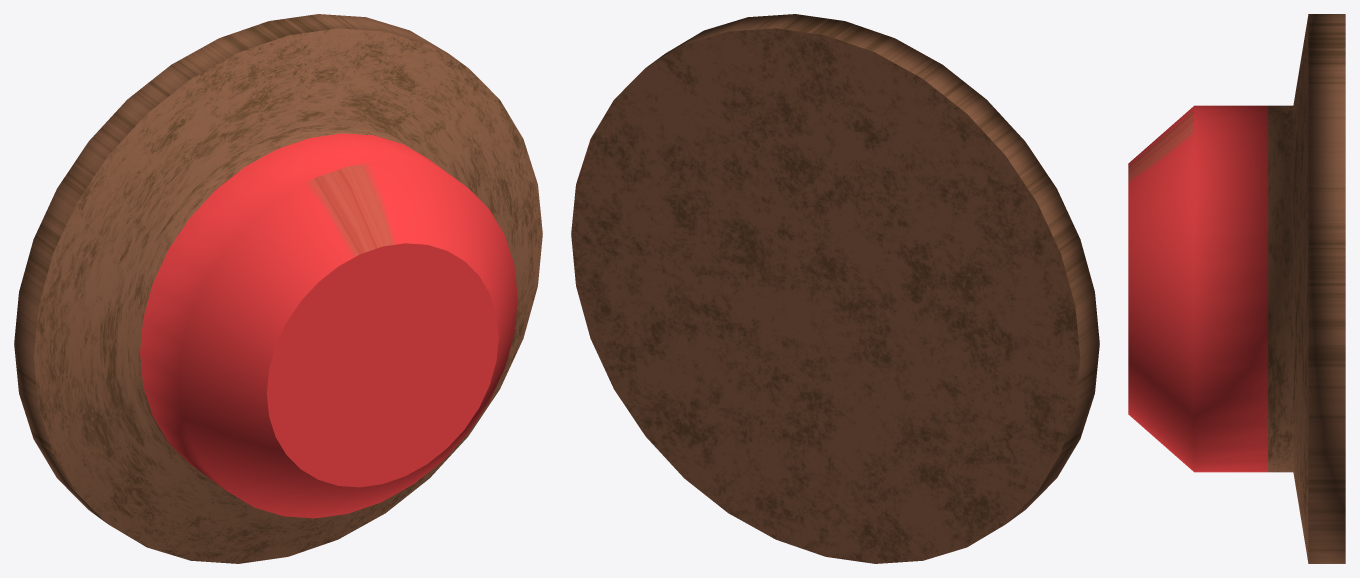
Rendered from Card5.glb.
3 renders of one model, left to right at view 1: azimuth 30°, elevation 25°; view 2: azimuth 150°, elevation 25°; view 3: azimuth 270°, elevation 25°, orthographic. The views are drawn at different scales.
Parts seen in each view (by area): view 1: Cube.001; view 2: Cube.001; view 3: Cube.001.
Boxes of the visible parts, <box> form: Cube.001: <box>14,14,542,563</box>; Cube.001: <box>571,14,1099,563</box>; Cube.001: <box>1128,14,1345,563</box>.
Size of what is drawn, in the model's own units: 0.4001 by 0.3915 by 0.1553.
Materials: 1 (1 with a texture image).
